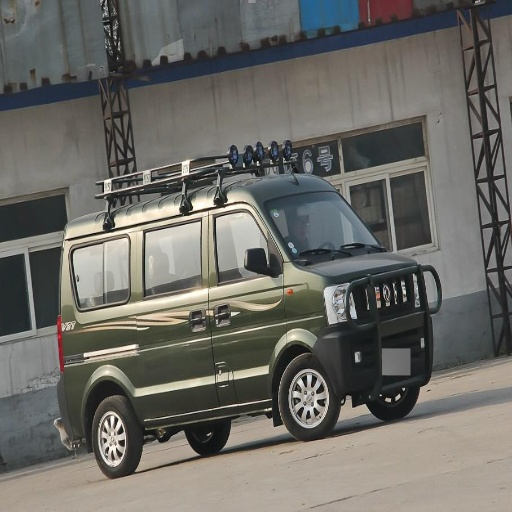back_right_door: (133, 209, 212, 352)
front_right_door: (208, 202, 283, 403)
trunk: (342, 318, 417, 391), (63, 346, 134, 413)
